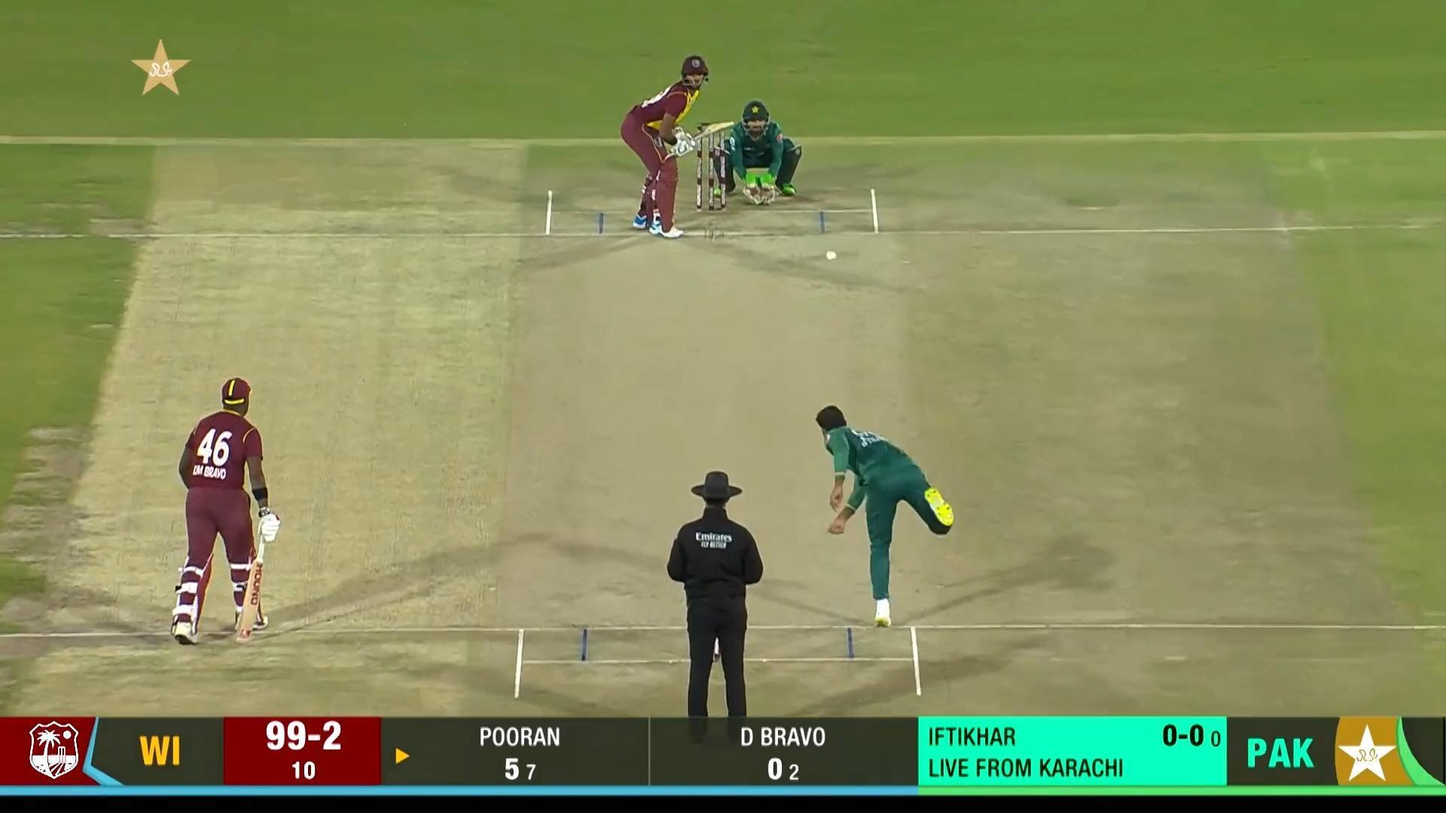BM 1: (620, 55, 735, 239)
BO: (813, 403, 957, 629)
